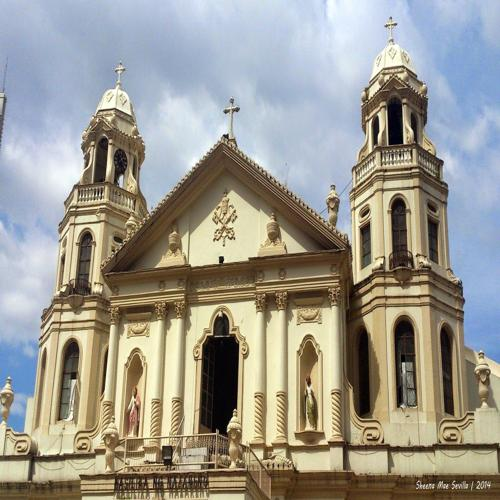Quiapo Church: (34, 13, 466, 500)
